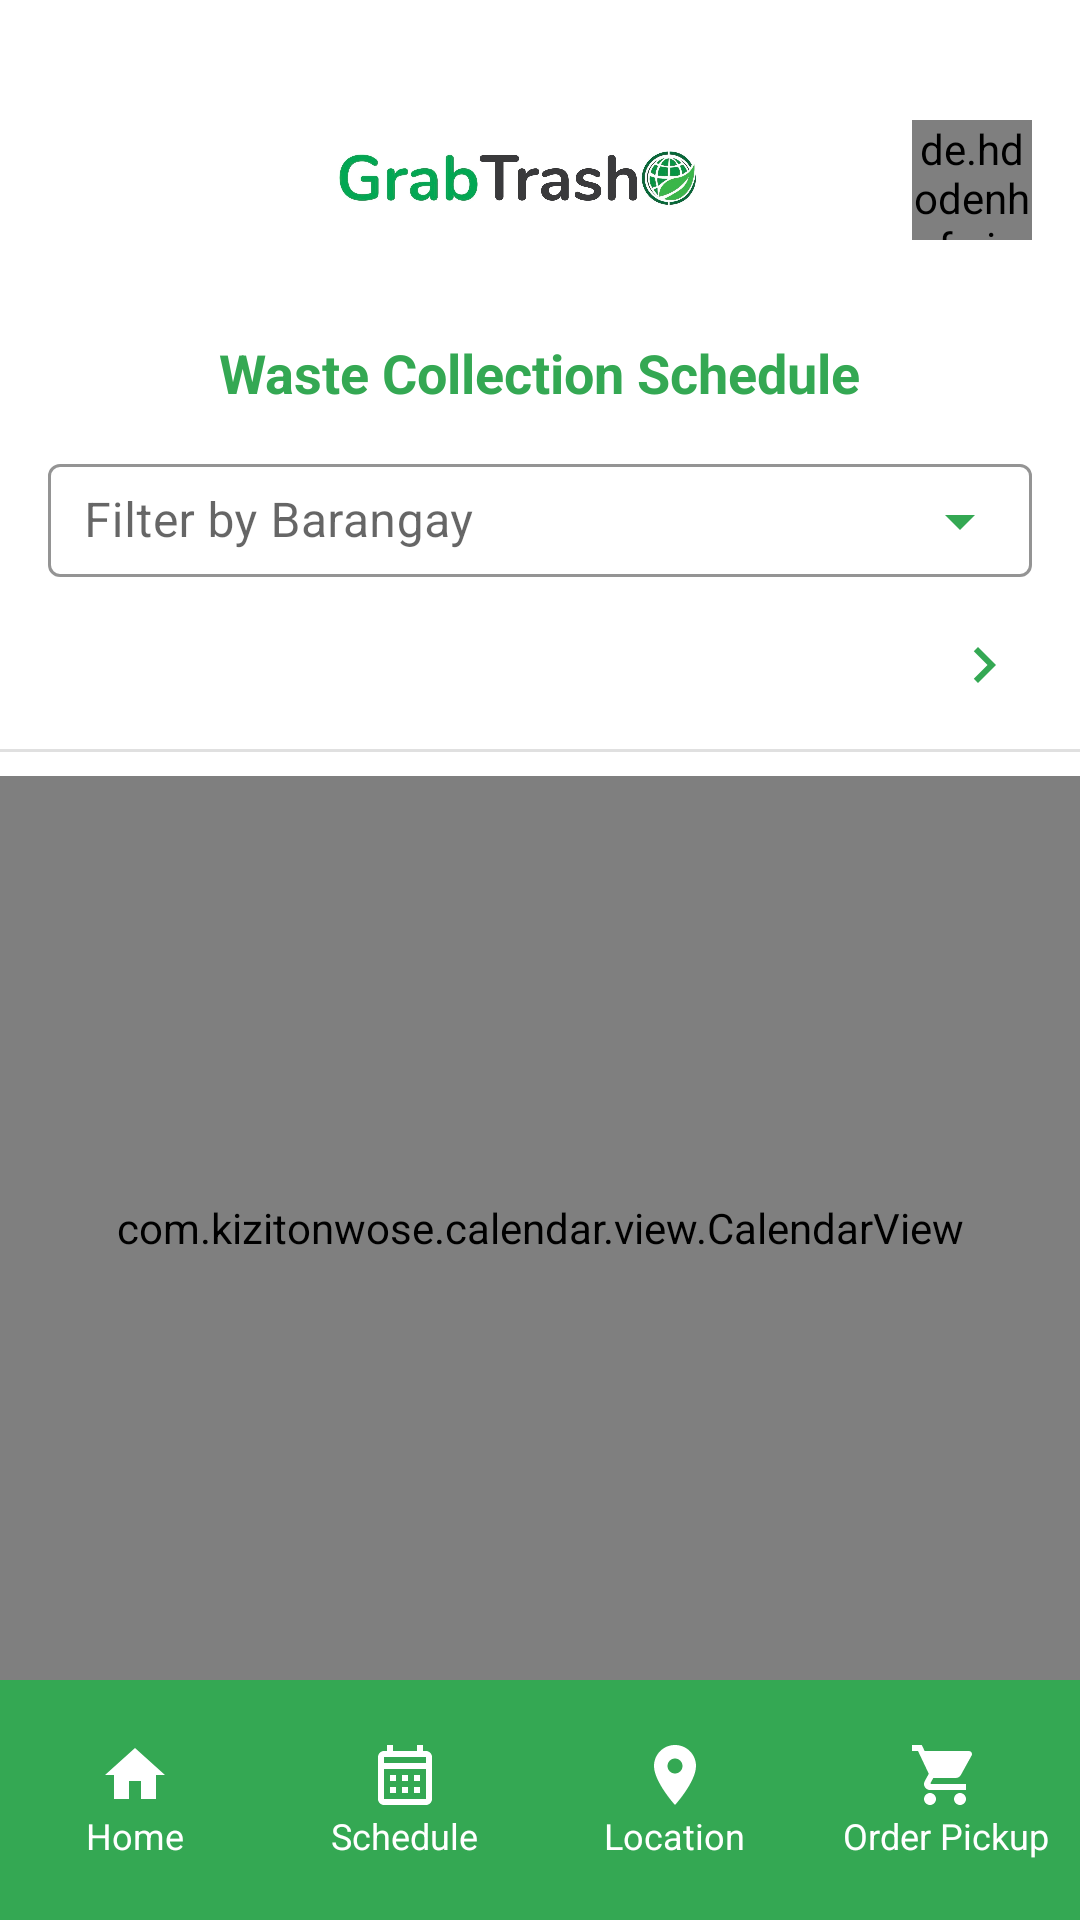

Locate icon controls on the screen. Image size 1080*1920, boxes as (x1, y1, x2, y2).
arrow right: (974, 647, 996, 683)
cart: (912, 1745, 972, 1805)
